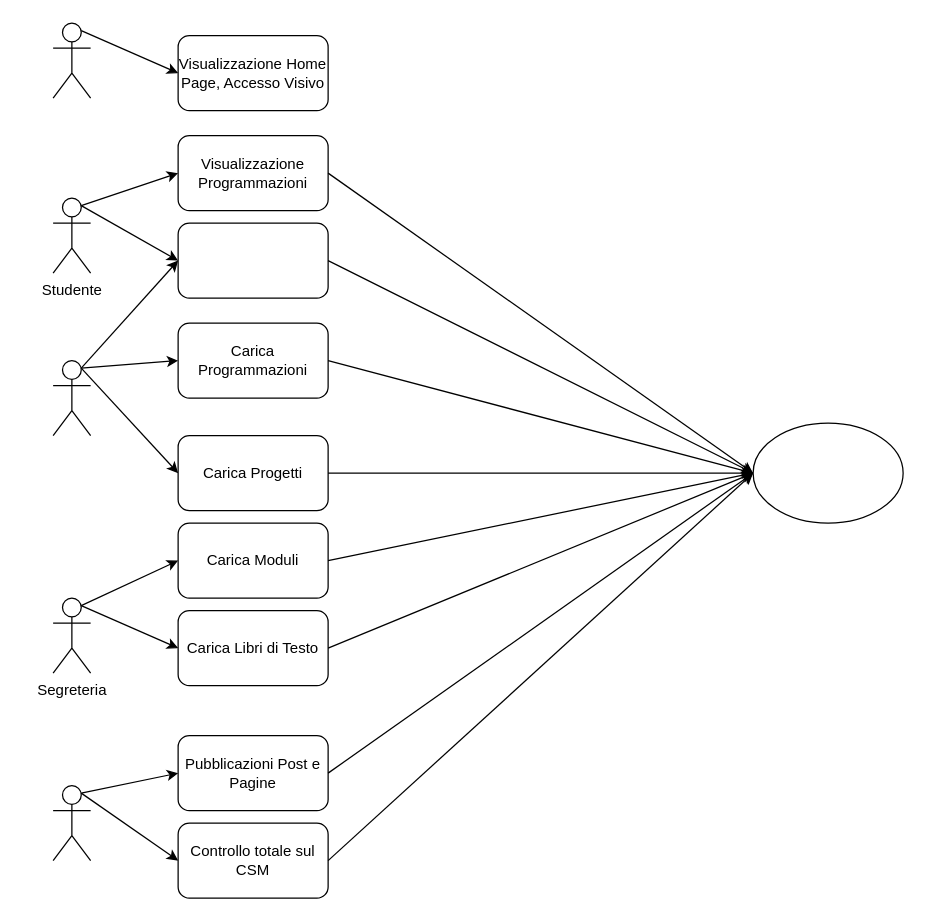
Some shapes in this 925 by 920 pixel diagram are drawn without their labels. The shapes that lost their labels are listed below. From the top down, each one's box as (x1, y1, x2, y2) in pixels, then its label:
(52, 22, 91, 98): Visitatore
(177, 222, 328, 298): Utilizzo del Forum
(52, 359, 91, 436): Personale
(752, 422, 903, 523): Login Area Riservata
(52, 784, 91, 861): Amministratore
